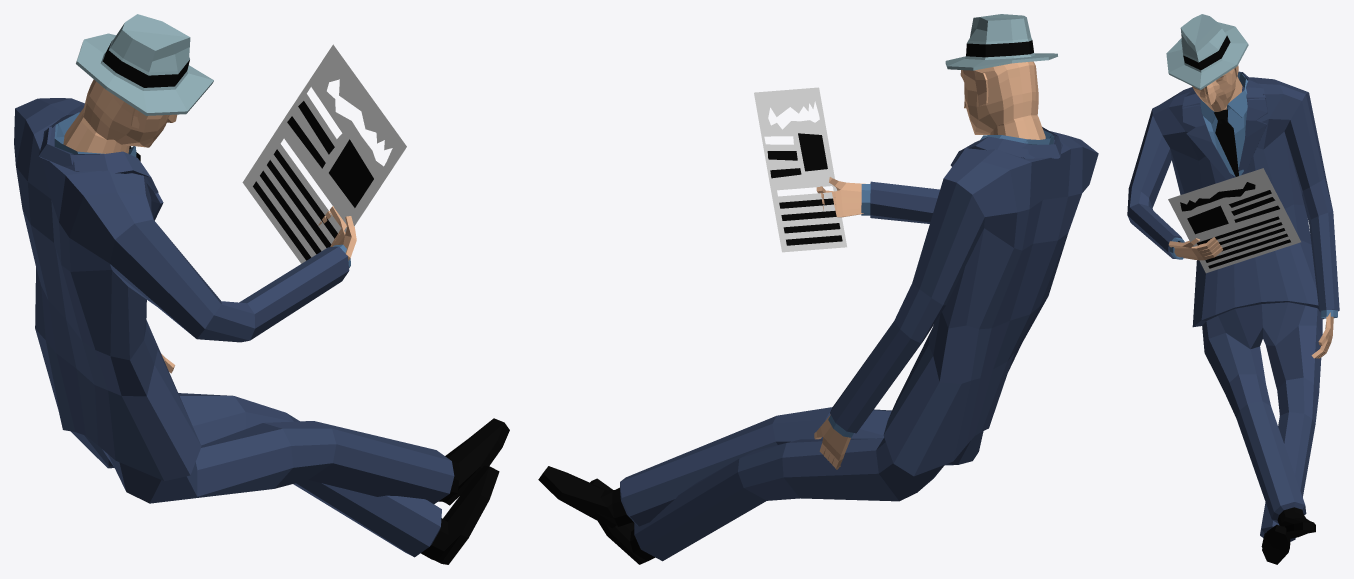
The model's file is bench_man.glb.
3 renders of one model, left to right at view 1: azimuth 30°, elevation 25°; view 2: azimuth 150°, elevation 25°; view 3: azimuth 270°, elevation 25°, orthographic. The views are drawn at different scales.
Parts seen in each view (by area): view 1: bench_man; view 2: bench_man; view 3: bench_man.
Part boxes in pixels (x1,y1,x2,y2): bench_man: [14, 14, 509, 564]; bench_man: [538, 14, 1098, 564]; bench_man: [1127, 14, 1339, 564].
Bounding box in the file's own units: 2.08 × 2.51 × 1.12.
